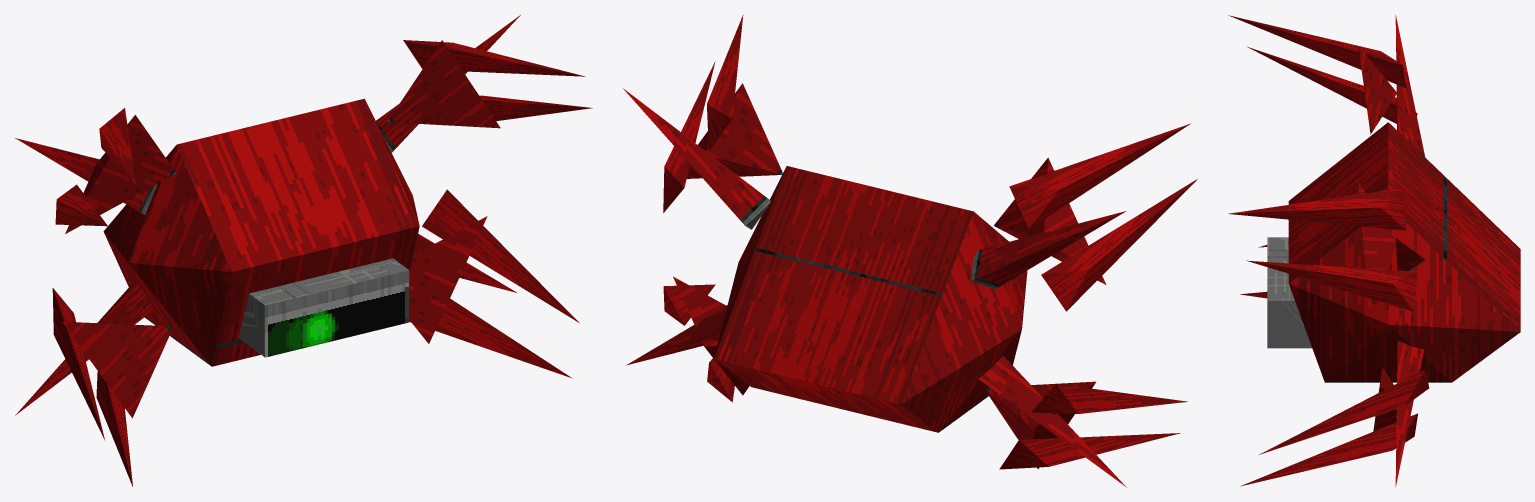
The model's file is model_035_robot_noname.glb.
3 views of the same model, side by side, from view 1: azimuth 30°, elevation 25°; view 2: azimuth 150°, elevation 25°; view 3: azimuth 270°, elevation 25° (orthographic). The views are drawn at different scales.
Parts seen in each view (by area): view 1: model_035; view 2: model_035; view 3: model_035.
Part boxes in pixels (left/top/right/bottom): model_035: left=15, top=15, right=592, bottom=486; model_035: left=623, top=15, right=1197, bottom=487; model_035: left=1228, top=15, right=1520, bottom=486.
Bounding box in the file's own units: 6.42 × 3.74 × 3.56.
Materials: 4 (4 with a texture image).
